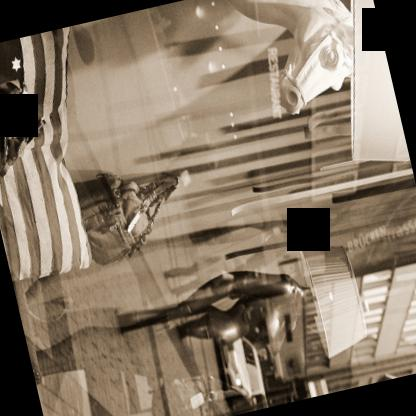handbag: (78, 172, 177, 266), (0, 78, 46, 179)
